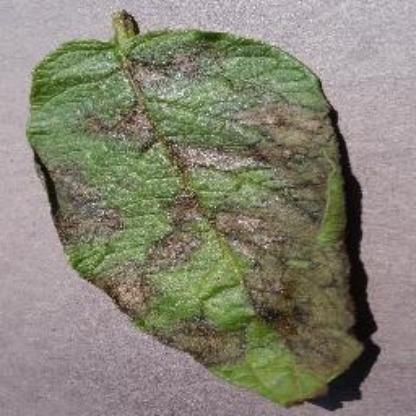Late-Blight: (26, 8, 376, 410)
